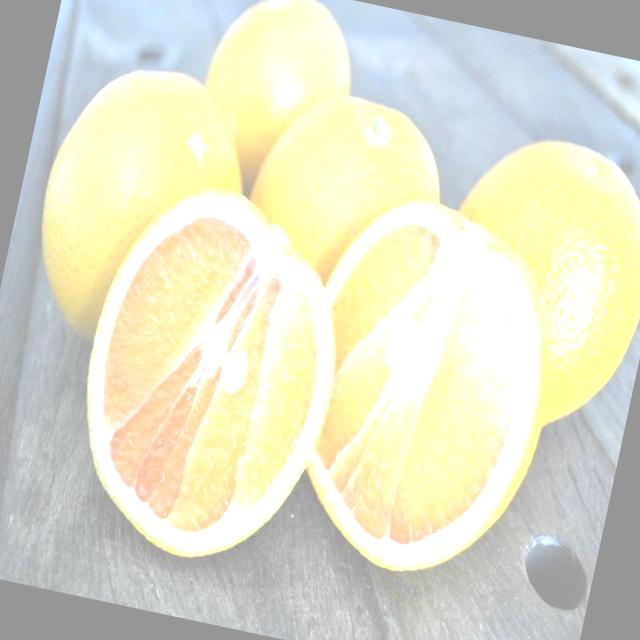Orange: (55, 168, 368, 579), (272, 188, 582, 590), (15, 49, 264, 363), (418, 123, 640, 442), (238, 81, 459, 306), (186, 0, 366, 204)
